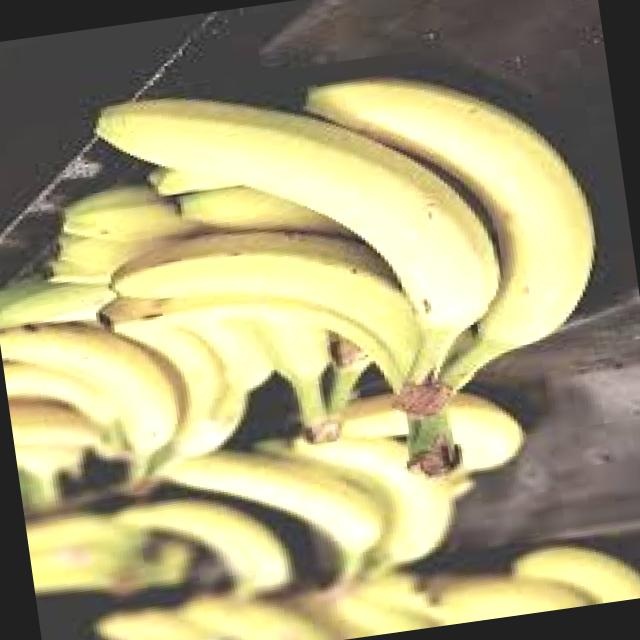Banana: (65, 27, 620, 510), (164, 382, 542, 612), (0, 292, 250, 512), (329, 538, 640, 640), (108, 485, 304, 616)
